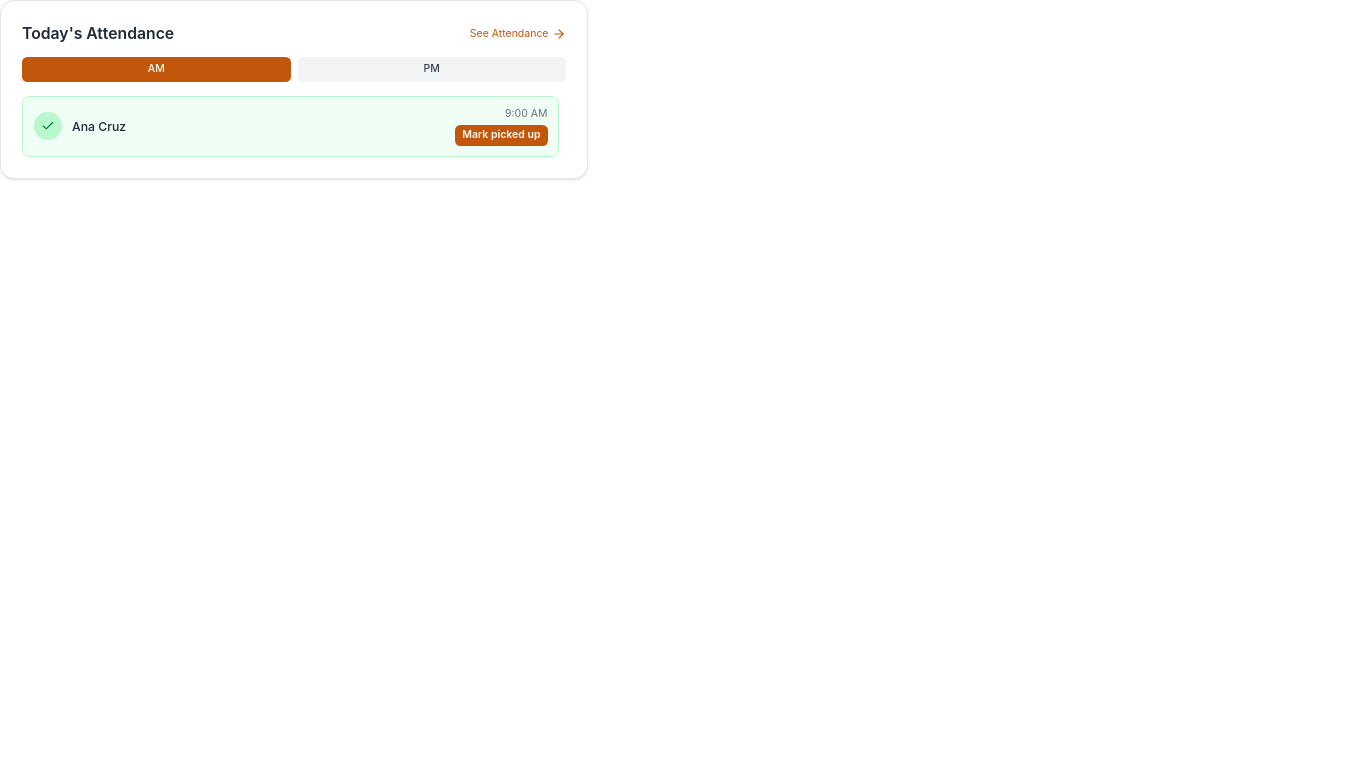
Dashboard Today's Attendance — Mark picked up › shows an error and keeps the button if the server rejects it
The width and height of the screenshot is (1366, 768).
Click the button with aria-label "mark ana cruz picked up". click: (501, 135)
box: left=455, top=124, right=548, bottom=146
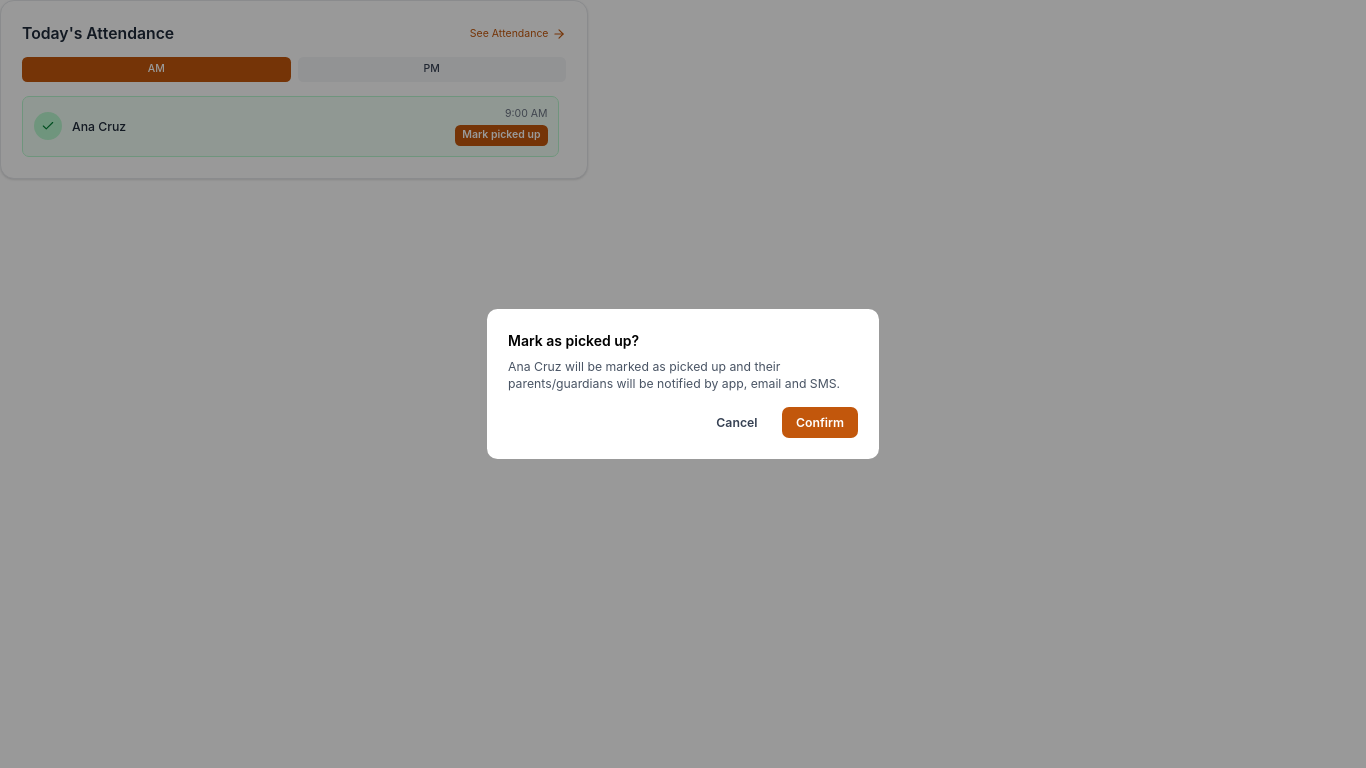
Click the button "Confirm". click: (820, 423)
box: left=782, top=407, right=858, bottom=438
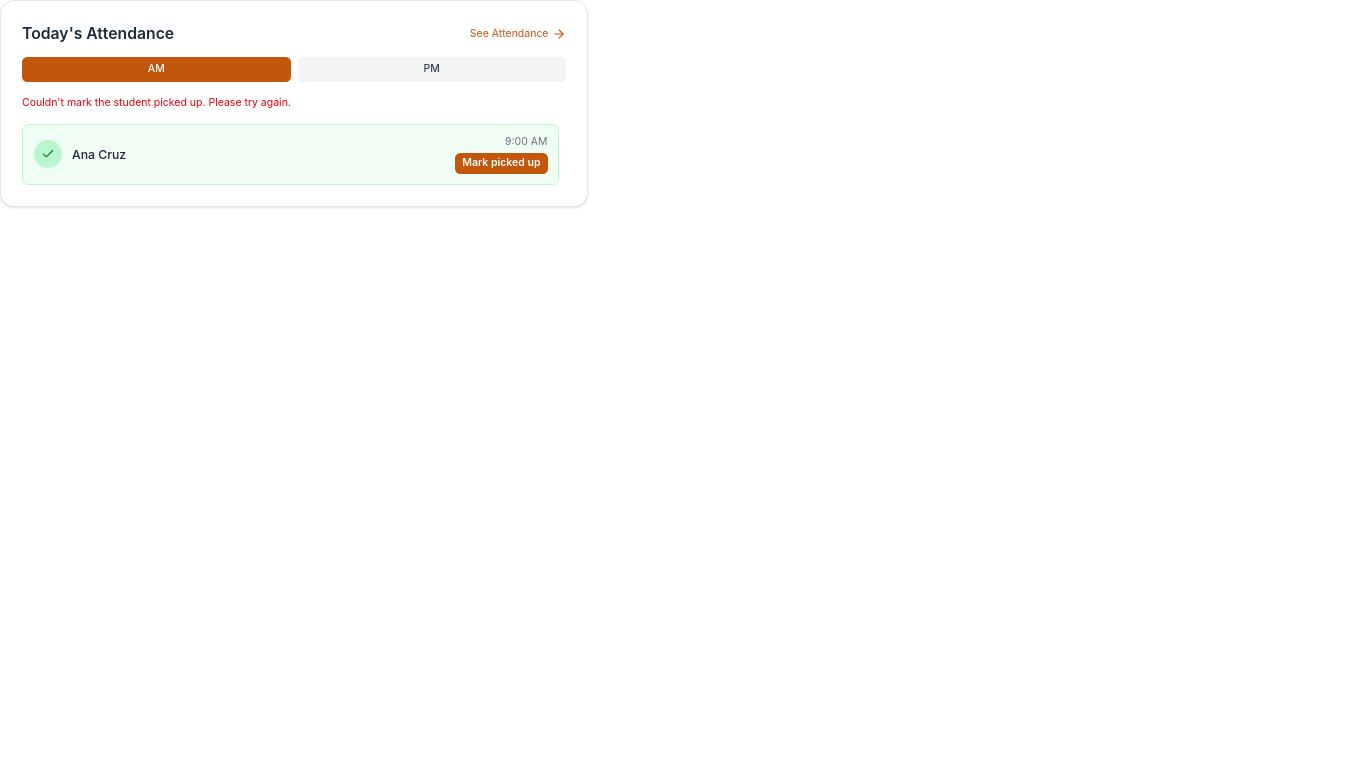
Expected: the button with aria-label "mark ana cruz picked up" is shown, left=455, top=152, right=548, bottom=174
Now the message shows "Couldn't mark", box left=22, top=96, right=291, bottom=108
